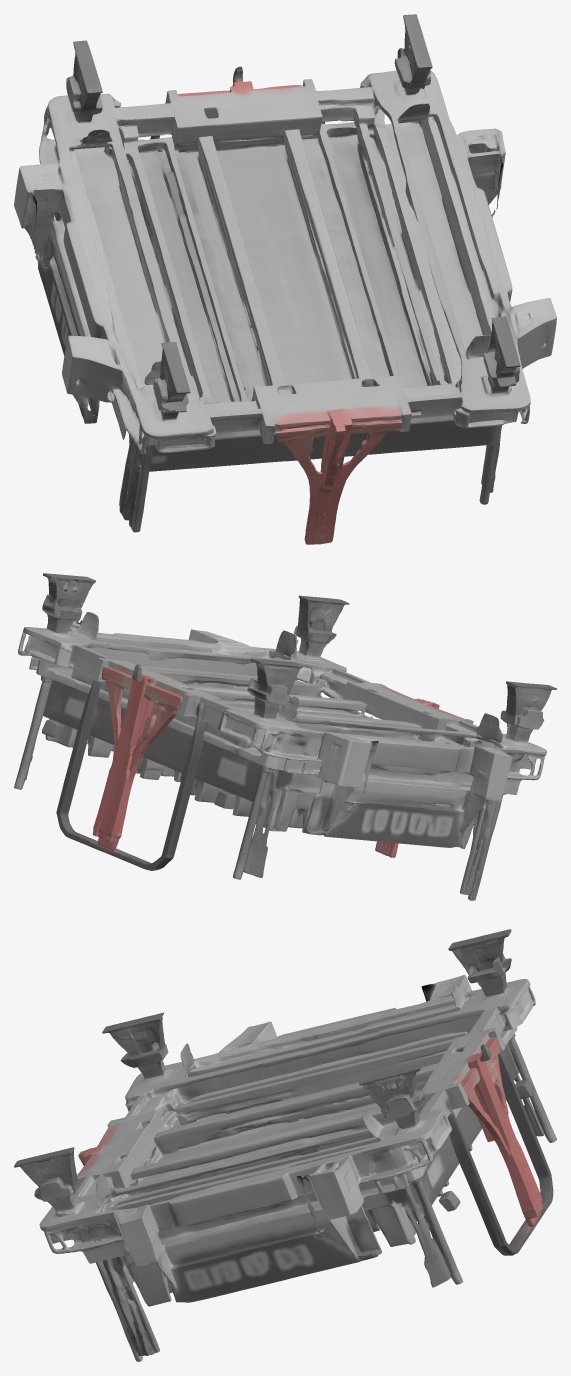
The model's file is cart-multi.glb.
3 renders of one model, top to bottom at view 1: azimuth 30°, elevation 25°; view 2: azimuth 150°, elevation 25°; view 3: azimuth 270°, elevation 25°, orthographic. The views are drawn at different scales.
Parts seen in each view (by area): view 1: geometry_0; view 2: geometry_0; view 3: geometry_0.
Part boxes in pixels (x1,y1,x2,y2): geometry_0: (14, 14, 556, 544); geometry_0: (14, 573, 556, 900); geometry_0: (14, 929, 556, 1361).
Size of the model in its own units: 2.85 by 2.11 by 3.02.
